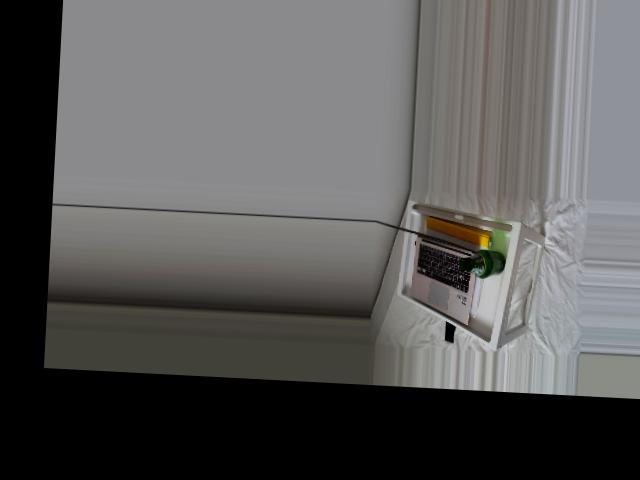beer: (459, 248, 506, 278)
